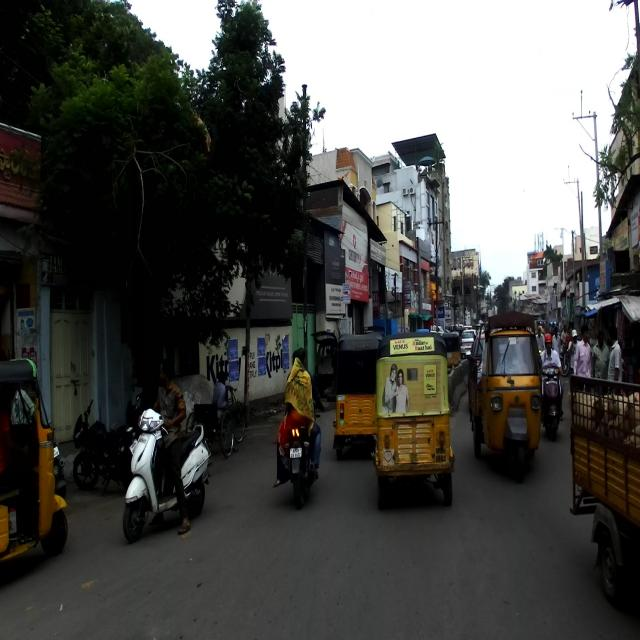autorickshaw: (565, 369, 640, 614), (370, 328, 456, 511), (0, 354, 69, 562), (466, 302, 545, 482), (331, 330, 383, 462)
motorcycle_bajaj: (70, 398, 138, 498), (281, 396, 321, 512)
scooter: (120, 400, 211, 546), (539, 362, 565, 440)
